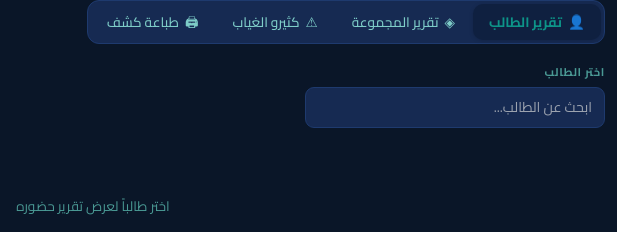
it: AttendanceReports — "report by student" uses the searchable student selector › typing a partial Arabic name filters to matching active students only (eligibility unchanged)
In the dropdown: (455,108) 305,87 -> 605,128, type "أشرف"
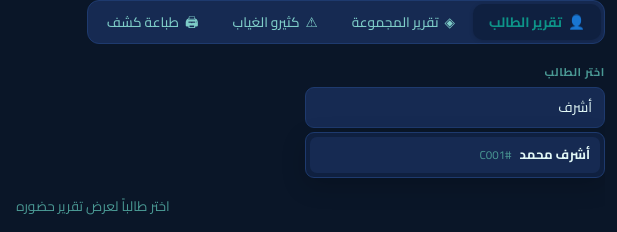
expect the option "أشرف محمد #C001" is shown: met, box 310,137 -> 600,173
